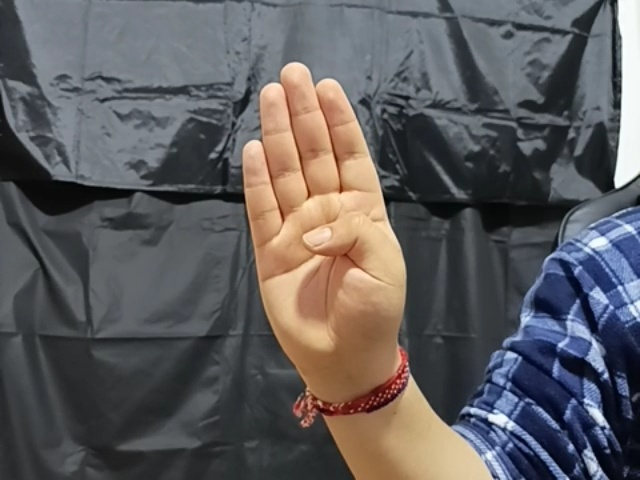B: (236, 55, 412, 354)
